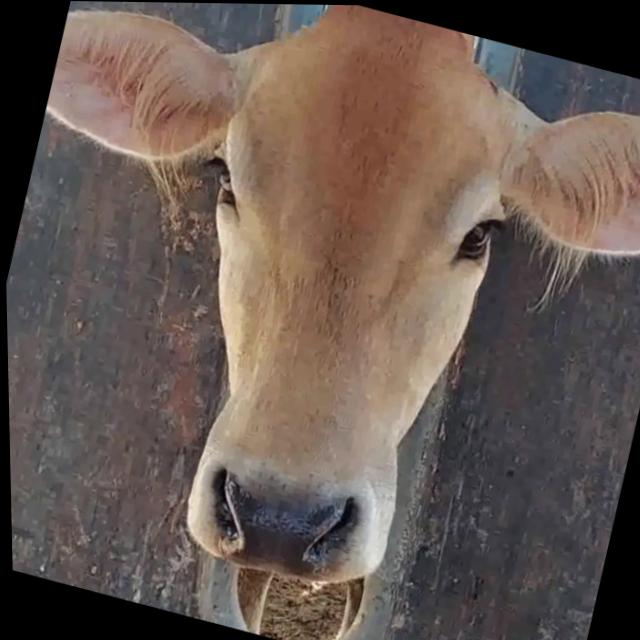cowFace: (115, 1, 544, 615)
